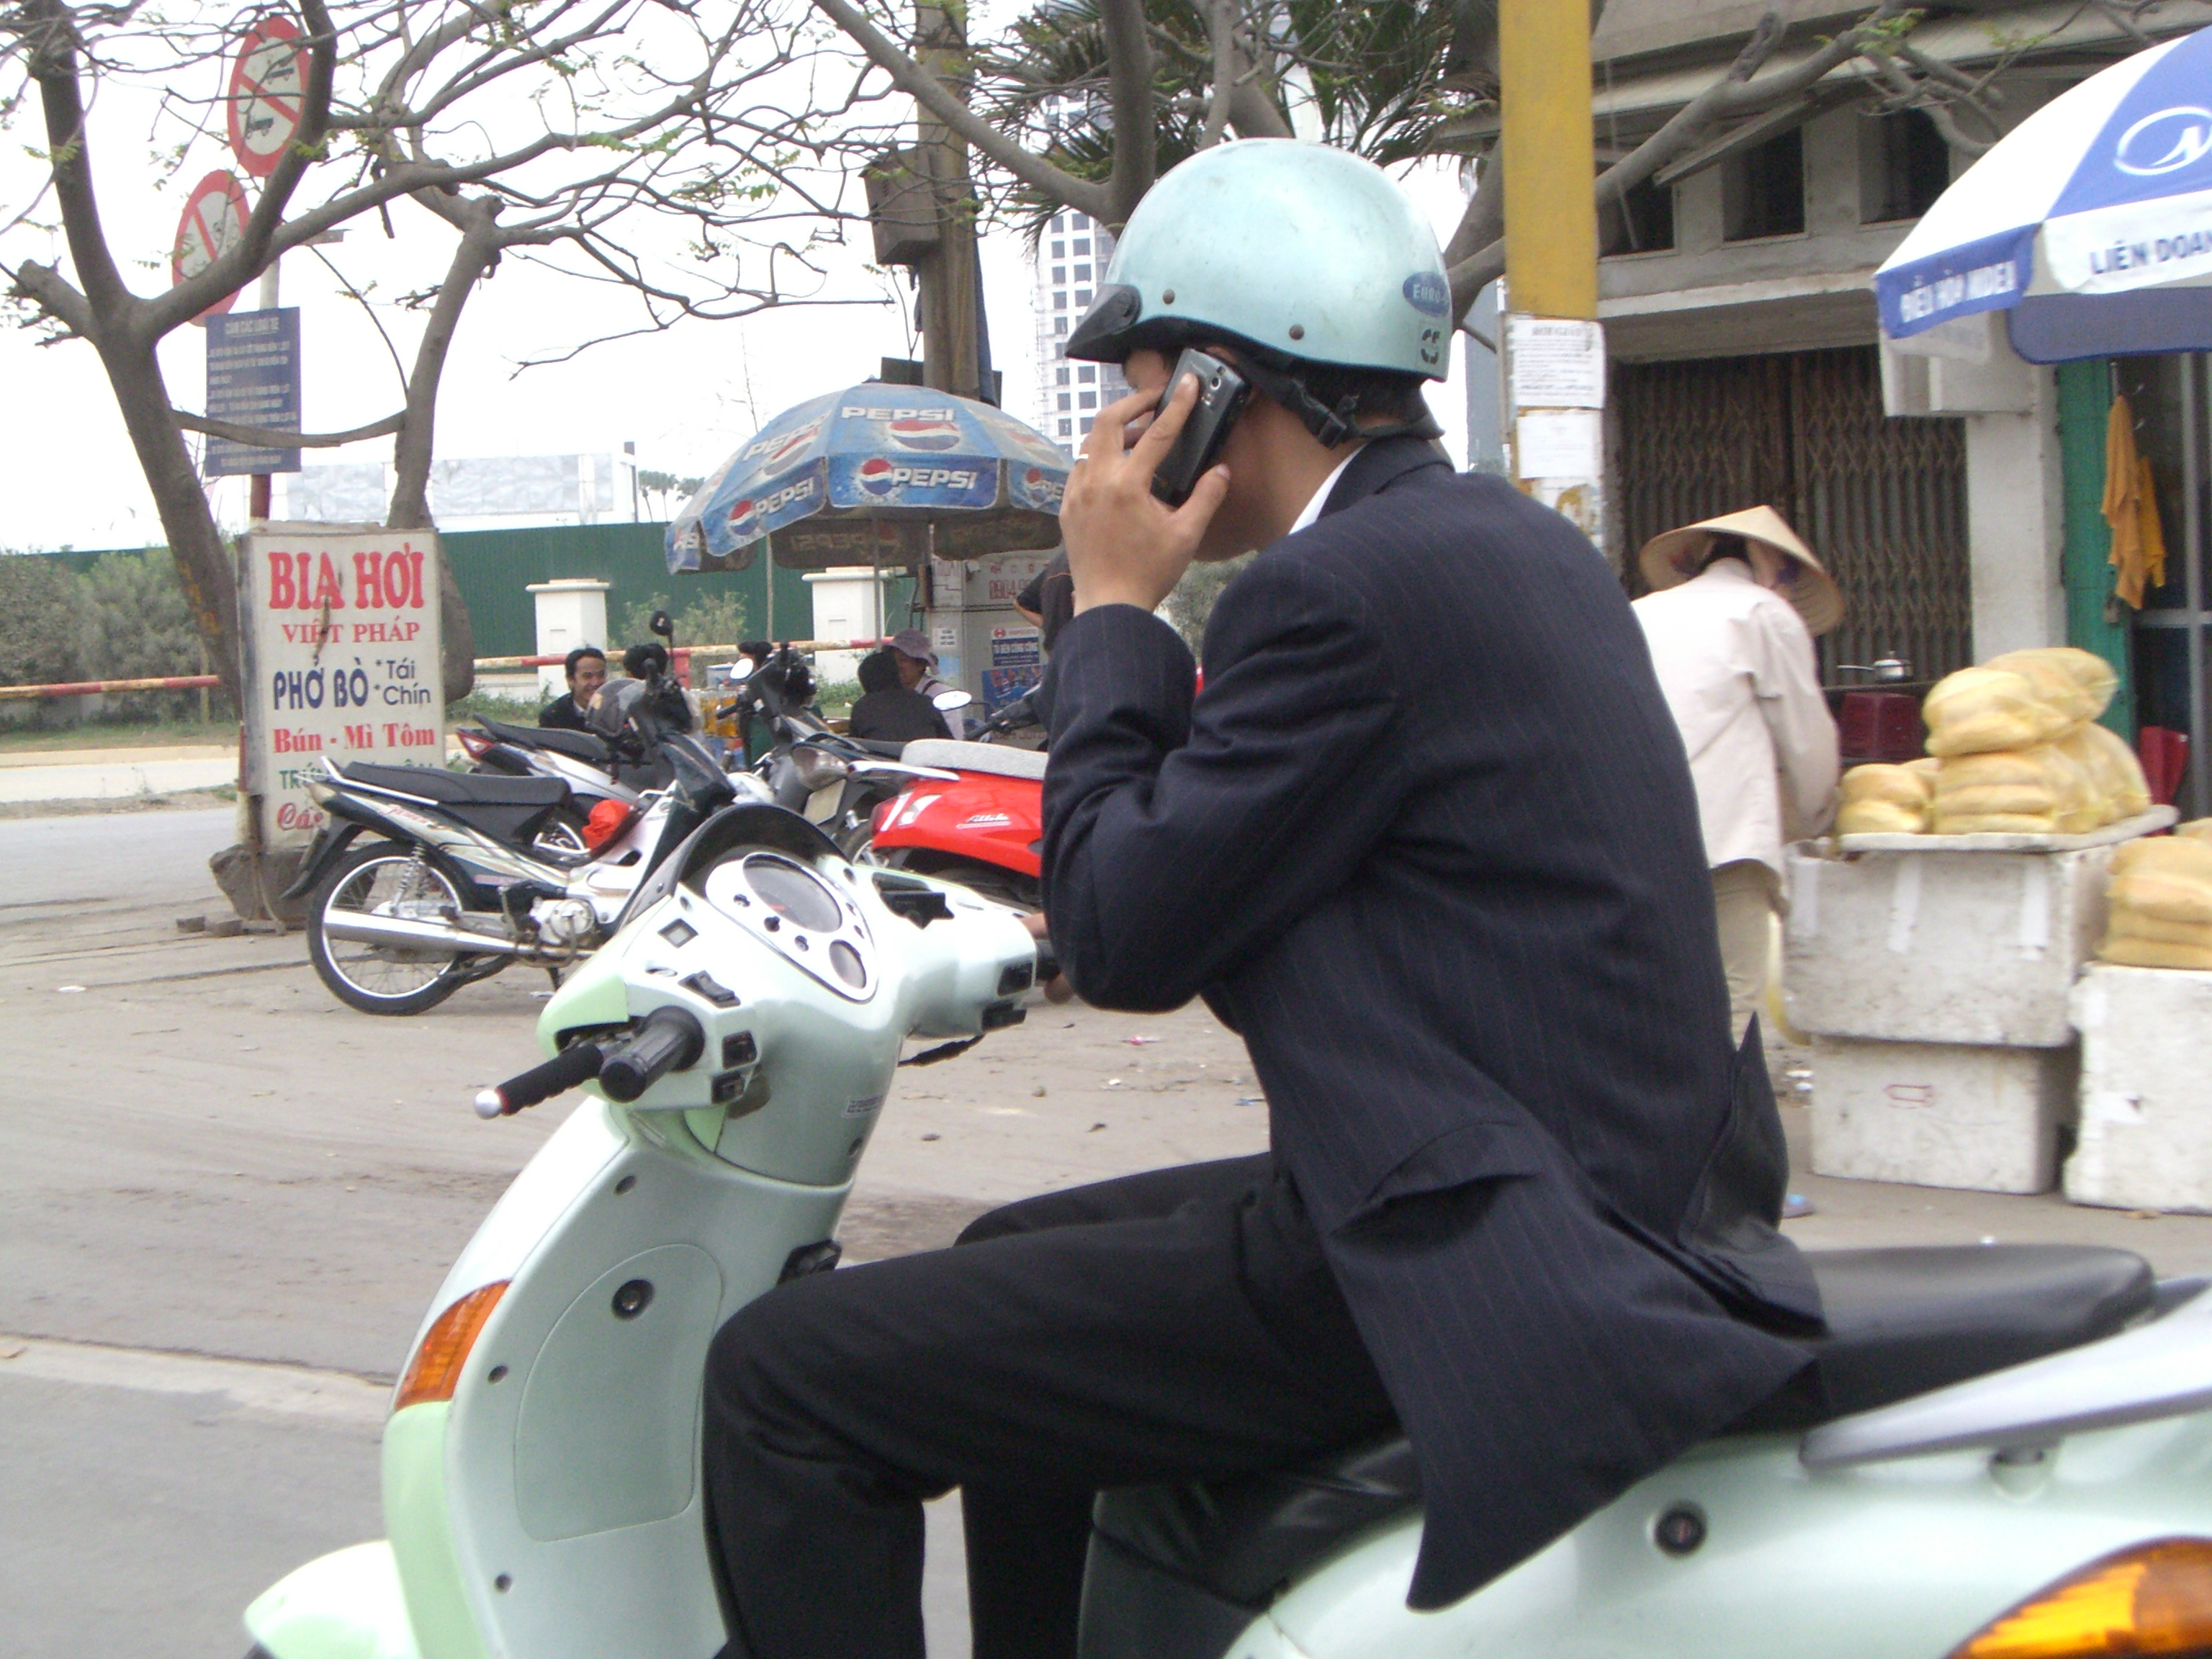dieu khien xe may: (395, 141, 1684, 1659)
su dung dien thoai: (1054, 136, 1449, 608)
